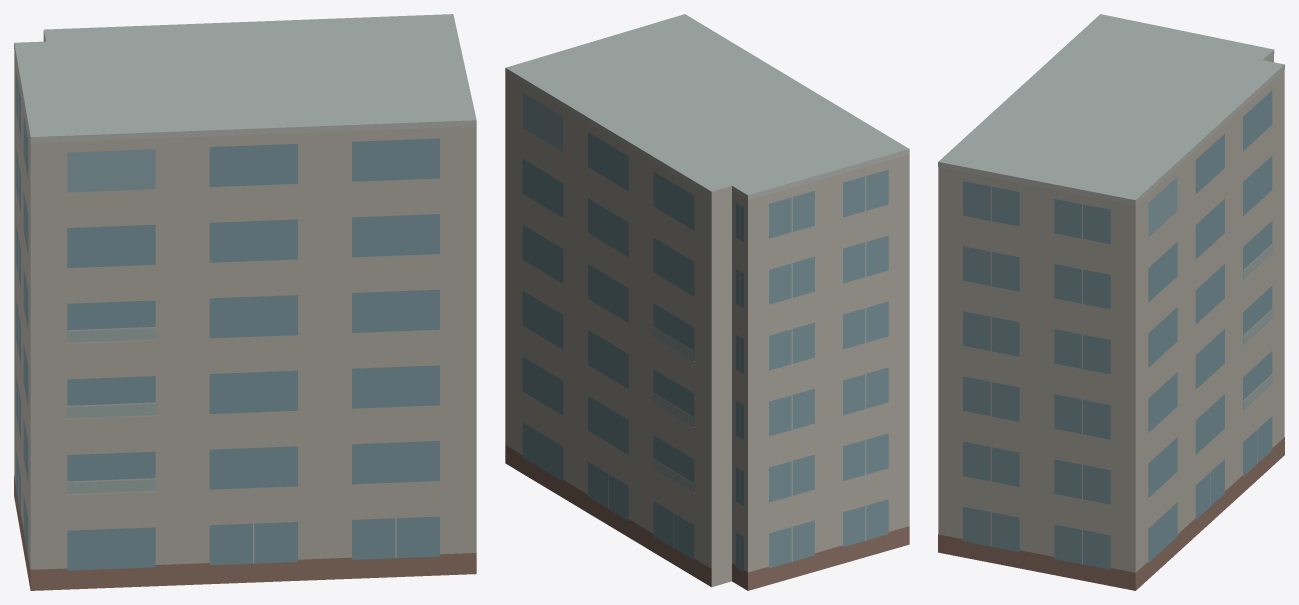
The model's file is survey-upis-32662224.glb.
3 views of the same model, side by side, from view 1: azimuth 30°, elevation 25°; view 2: azimuth 150°, elevation 25°; view 3: azimuth 270°, elevation 25° (orthographic). The views are drawn at different scales.
Visible parts, largest first — view 1: survey-upis-32662224.tmp; view 2: survey-upis-32662224.tmp; view 3: survey-upis-32662224.tmp.
Part boxes in pixels (<box>): survey-upis-32662224.tmp: <box>14,14,476,590</box>; survey-upis-32662224.tmp: <box>505,14,909,590</box>; survey-upis-32662224.tmp: <box>938,14,1284,590</box>.
Size of the model in its own units: 18.71 by 18.3 by 14.72.
